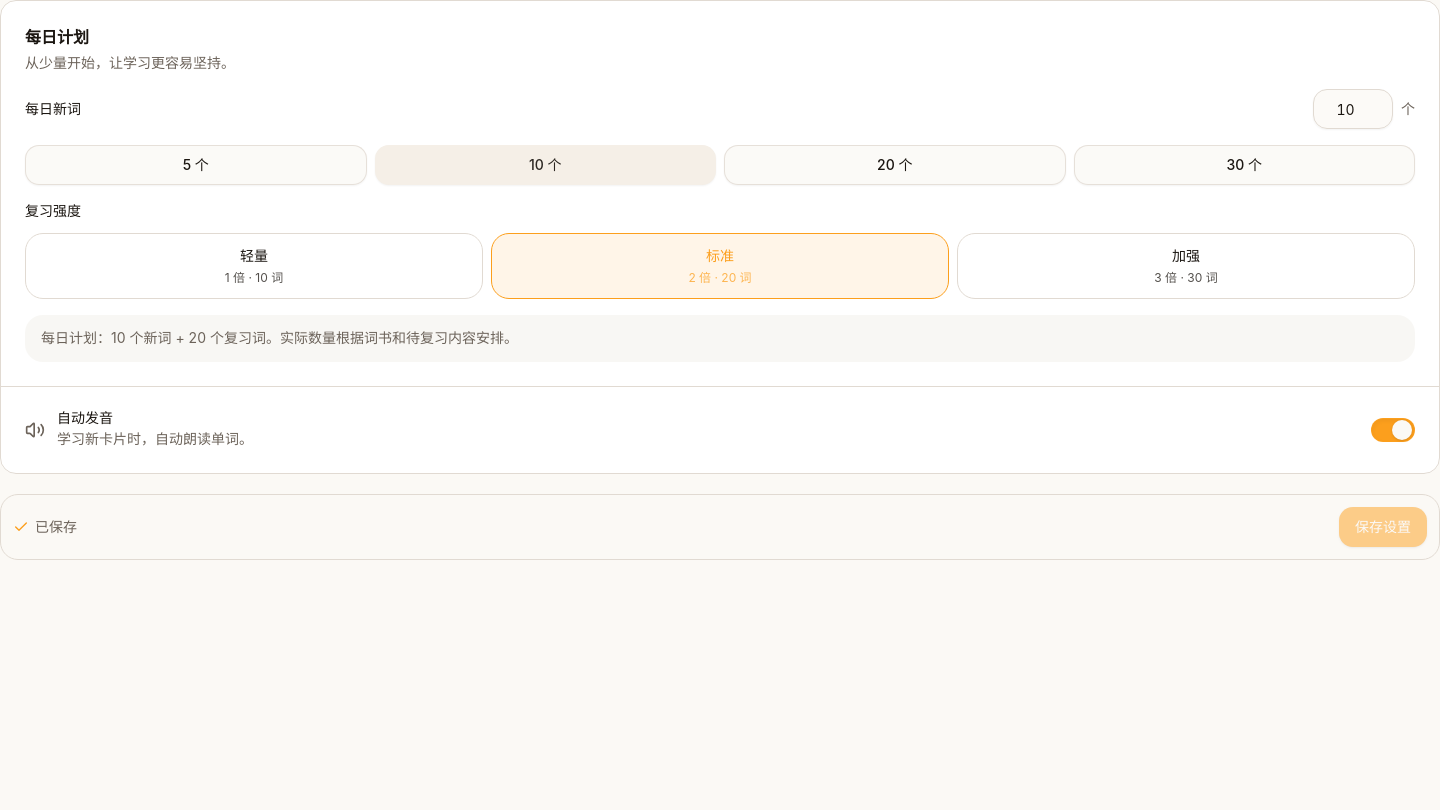
Test case: SettingsForm › preserves the edited values after failure and lets the user retry
The width and height of the screenshot is (1440, 810).
What coordinates should you click on to do the following:
click the button "30 个"
I would click on:
 (1244, 165)
Its box is [1074, 145, 1415, 185].
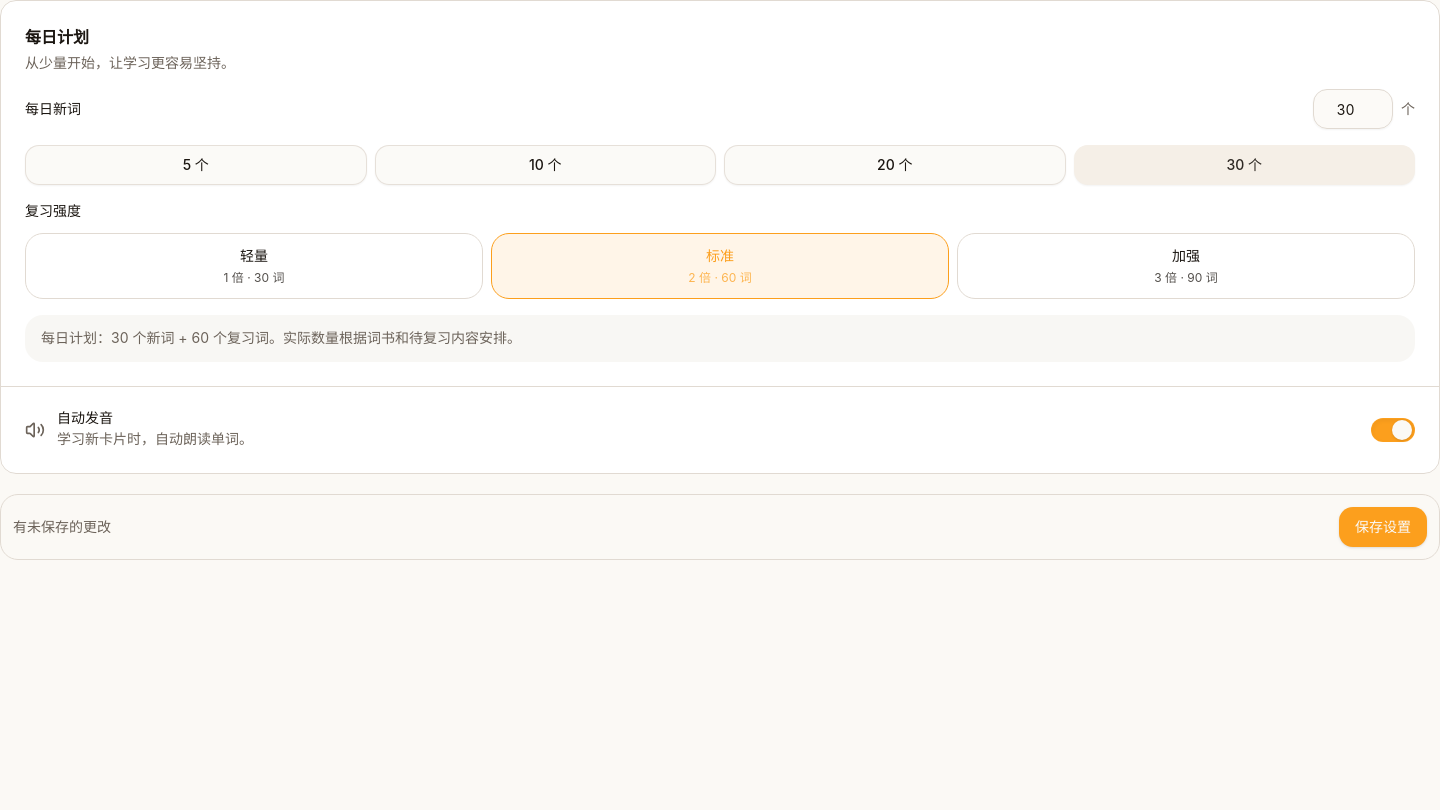
What coordinates should you click on to do the following:
click the button "保存设置"
I would click on:
 (1383, 527)
Its box is [1339, 507, 1427, 547].
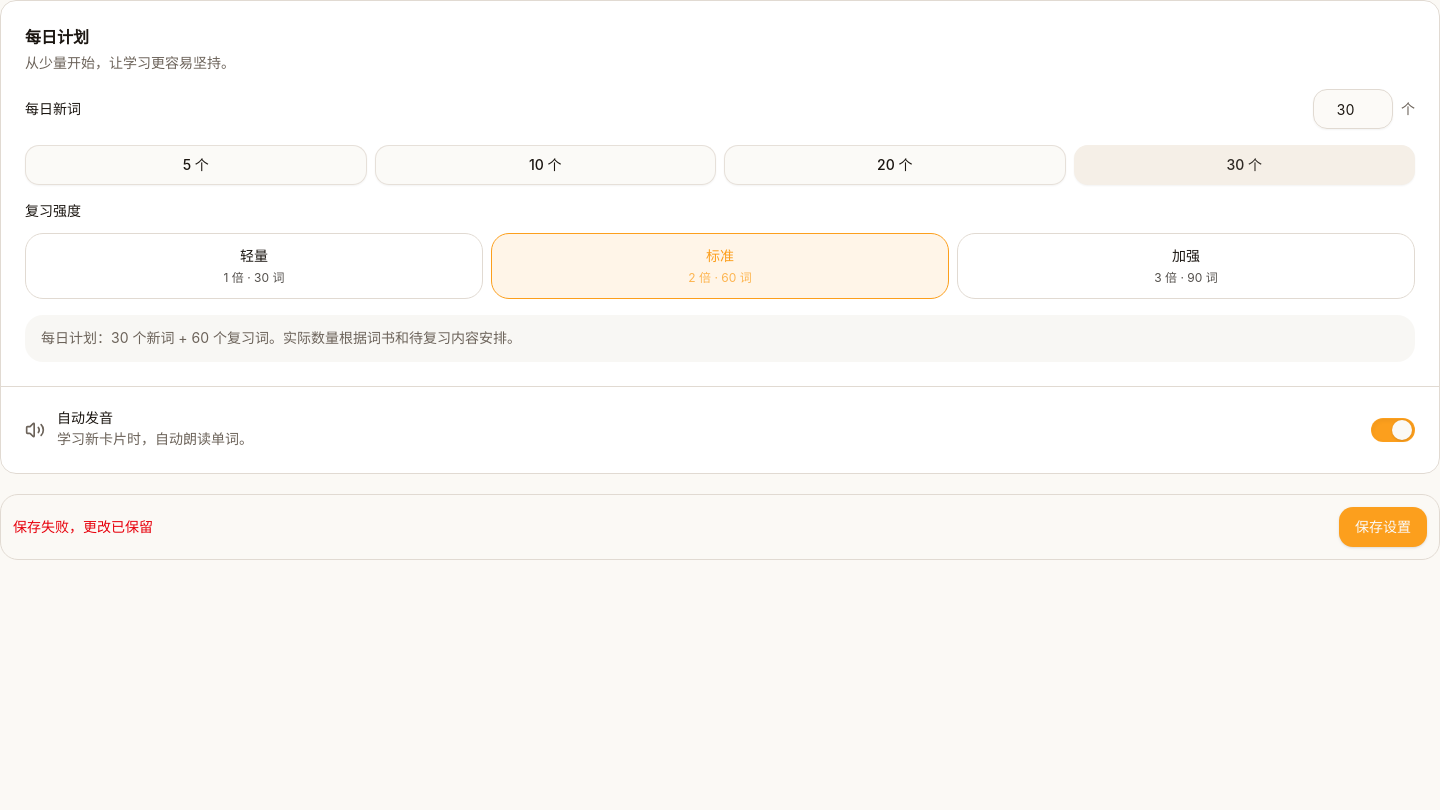
Check: the number field labelled "每日新词" holds "30", box [1313, 89, 1393, 129]
Check: the text "保存失败，更改已保留" is shown, box [13, 517, 153, 537]
What coordinates should you click on to do the following:
click the button "保存设置"
I would click on:
 (1383, 527)
Its box is [1339, 507, 1427, 547].
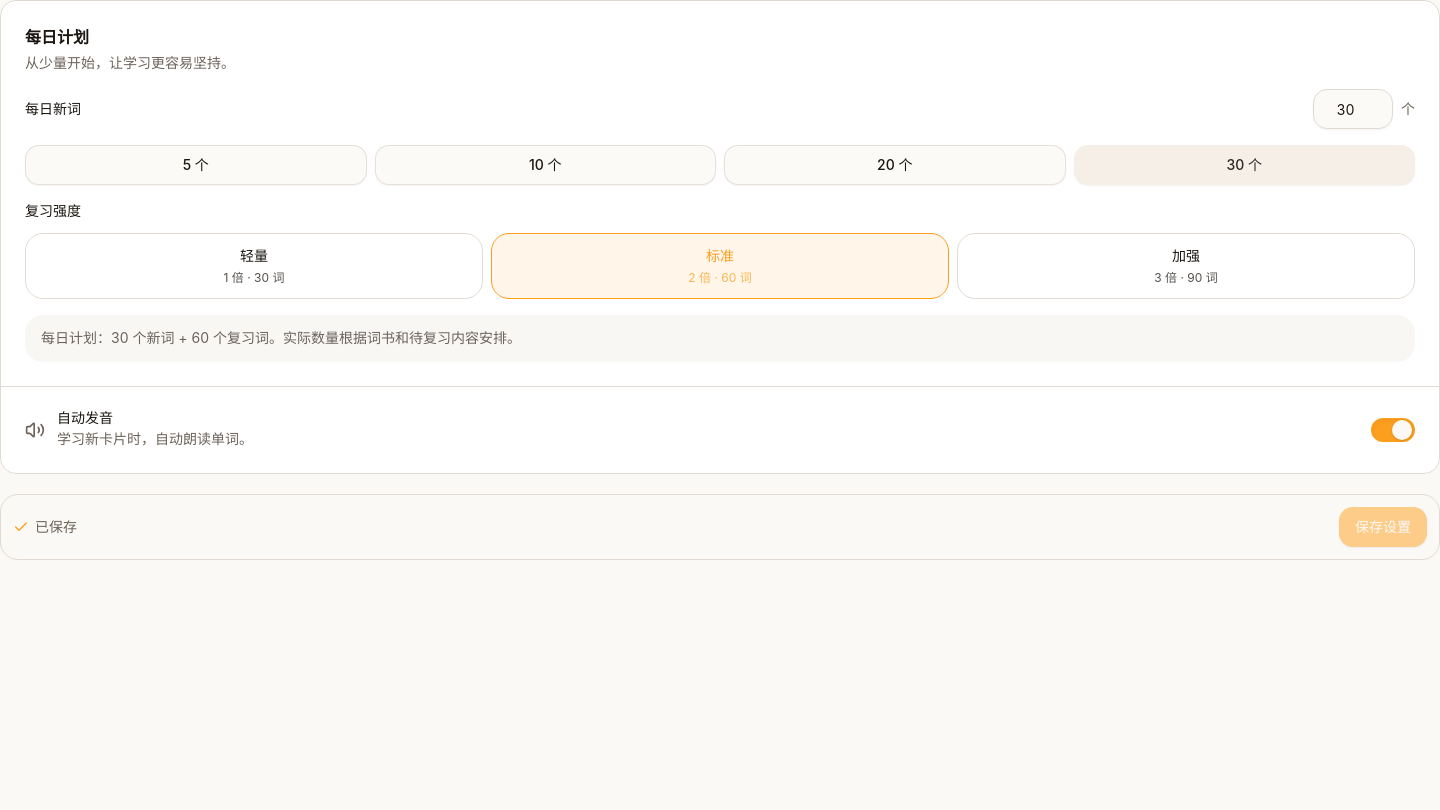
Check: the message reads "已保存", box [35, 518, 77, 535]
